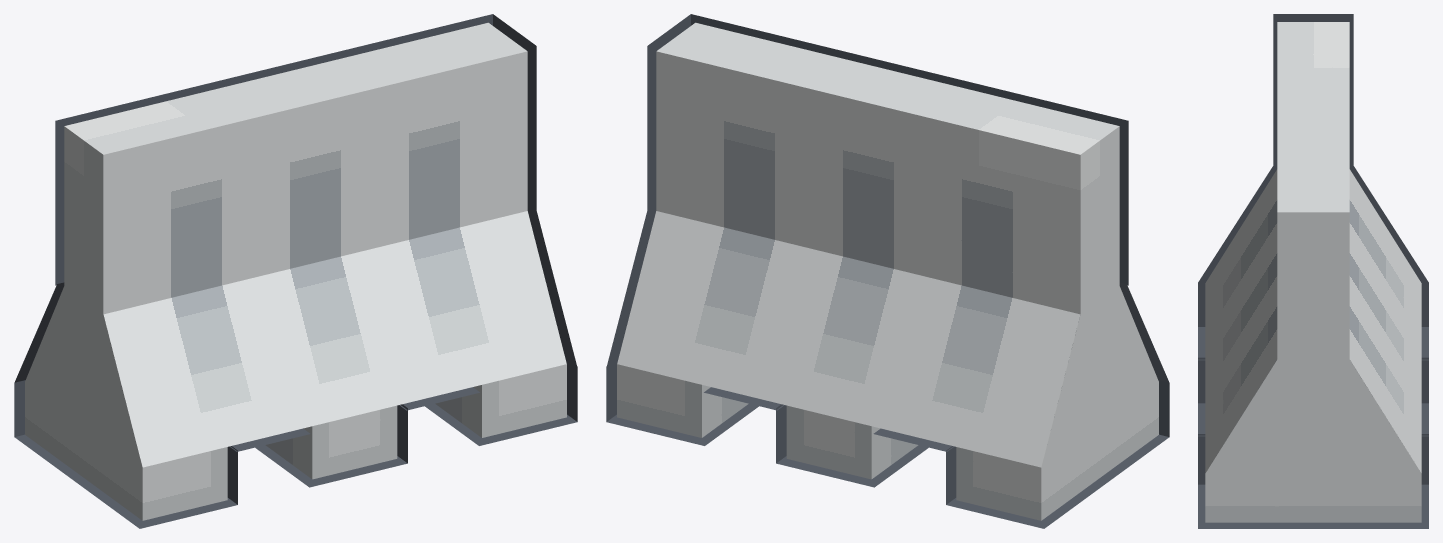
Rendered from PlasticFencingWhite.gltf.
The picture shows the model from 3 angles, left to right: view 1: azimuth 30°, elevation 25°; view 2: azimuth 150°, elevation 25°; view 3: azimuth 270°, elevation 25°; orthographic projection. The views are drawn at different scales.
Visible parts, largest first — view 1: cube (×3), cube_outline (×3); view 2: cube (×3), cube_outline (×3); view 3: cube (×2), cube_outline (×5).
Part boxes in pixels (box(x1,y1,x2,y2)): cube (×3): box(25, 22, 566, 520); cube_outline (×3): box(14, 14, 577, 528); cube (×3): box(617, 22, 1158, 520); cube_outline (×3): box(606, 14, 1169, 528); cube (×2): box(1205, 22, 1421, 522); cube_outline (×5): box(1198, 14, 1428, 528).
Bounding box in the file's own units: 1.61 × 1.22 × 0.8.
2 materials, 2 textured.
